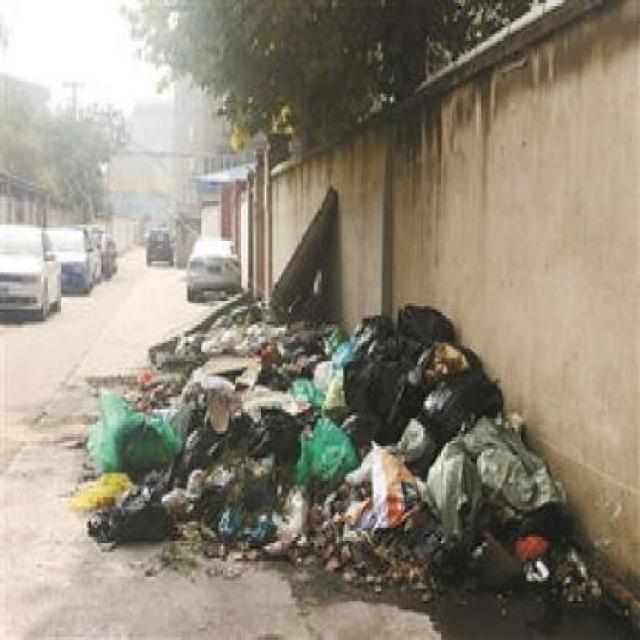garbage: (112, 312, 526, 554)
